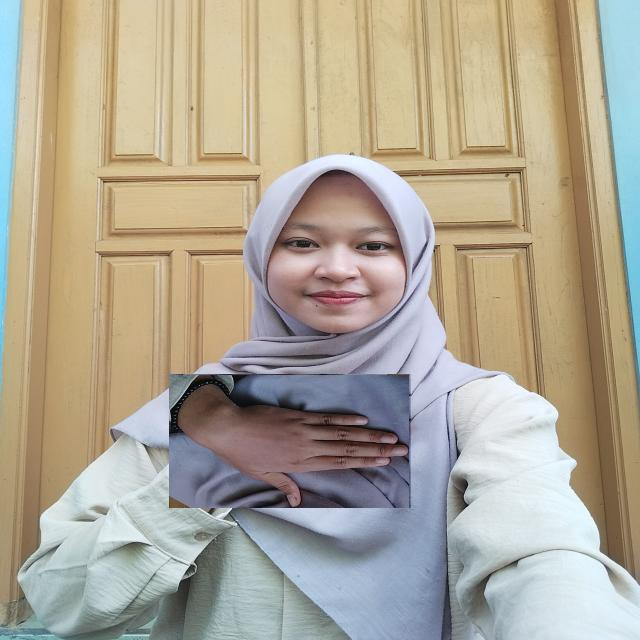tolong: (170, 374, 412, 508)
